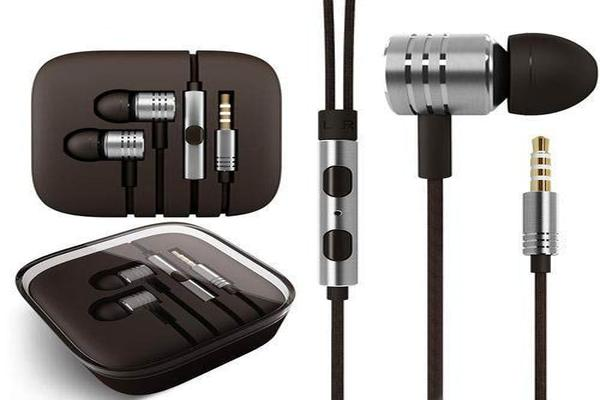headphone: (295, 30, 600, 390), (60, 241, 275, 384), (59, 57, 265, 196)
